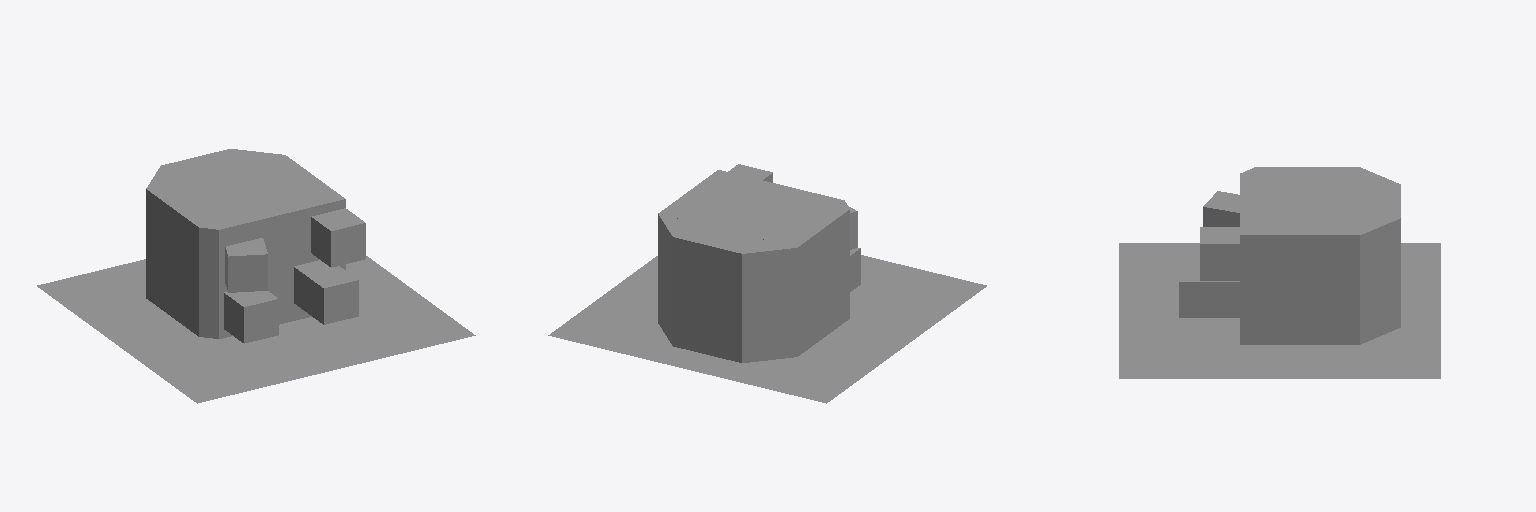
Rendered from oilpump.obj.
3 views of the same model, side by side, from view 1: azimuth 30°, elevation 25°; view 2: azimuth 150°, elevation 25°; view 3: azimuth 270°, elevation 25° (orthographic).
Parts seen in each view (by area): view 1: oil, cube, tubes; view 2: cube, oil, tubes; view 3: cube, oil, tubes.
Boxes of the visible parts, <box> form: oil: <box>37,256,475,403</box>; cube: <box>146,149,345,338</box>; tubes: <box>224,208,365,343</box>; cube: <box>658,170,849,362</box>; oil: <box>548,255,986,403</box>; tubes: <box>728,164,860,291</box>; cube: <box>1240,167,1400,344</box>; oil: <box>1119,243,1440,378</box>; tubes: <box>1179,191,1239,317</box>.
Size of the model in its own units: 0.5 by 0.1875 by 0.5.